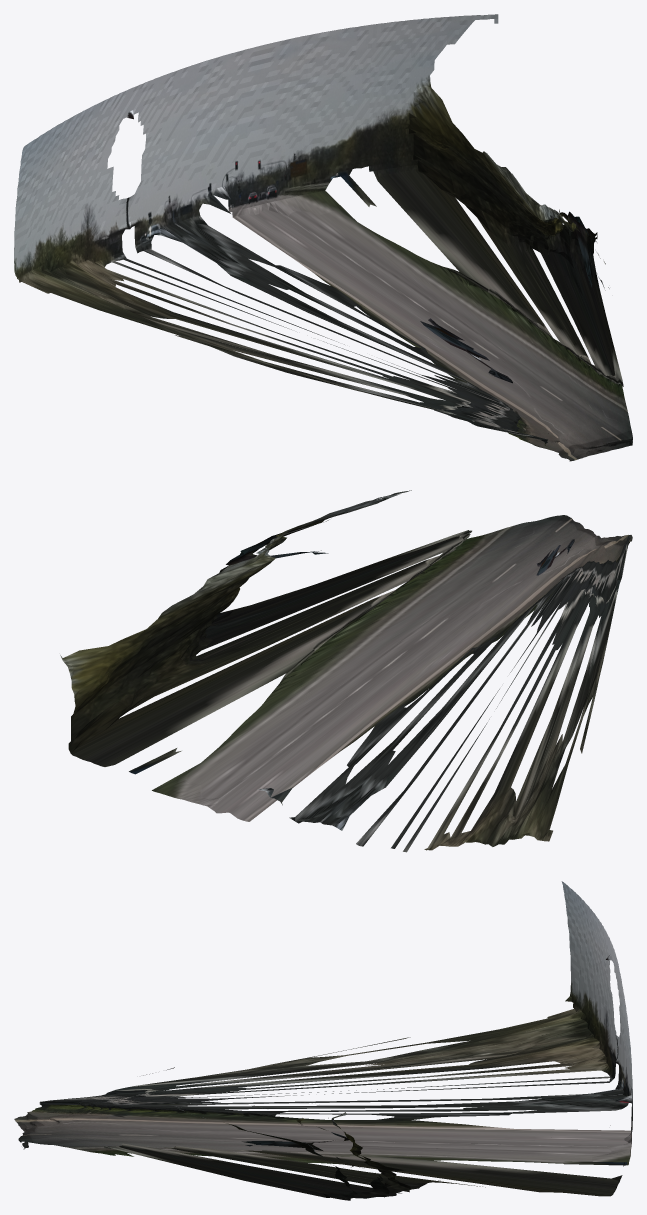
3 views of the same model, one above another, from view 1: azimuth 30°, elevation 25°; view 2: azimuth 150°, elevation 25°; view 3: azimuth 270°, elevation 25° (orthographic). The views are drawn at different scales.
Visible parts, largest first — view 1: defaultobject; view 2: defaultobject; view 3: defaultobject.
Part boxes in pixels (x1,y1,x2,y2): defaultobject: (14,14,632,461); defaultobject: (60,490,632,852); defaultobject: (14,881,632,1200).
Size of the model in its own units: 36.62 by 12.41 by 44.69.
1 material, 1 textured.
